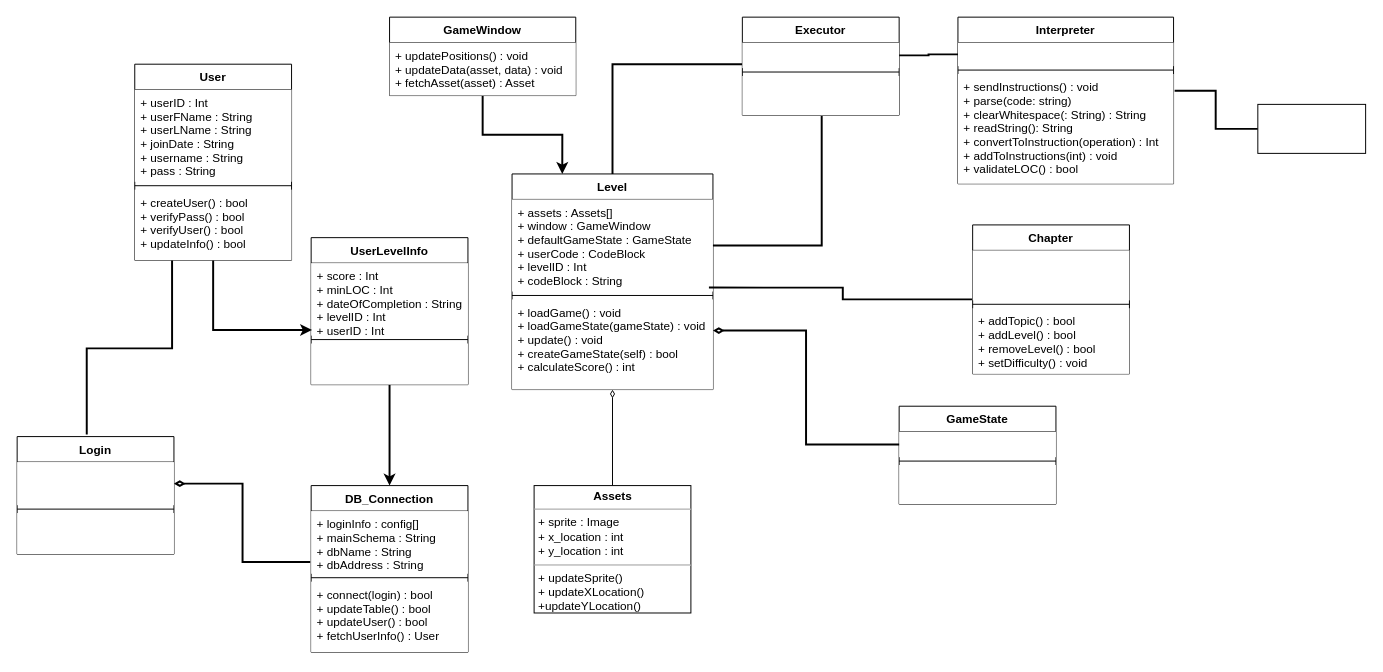
This 1383x672 diagram has some shape labels left out. Each missing label, with the centre of its shape:
"+ assetList : Assets[]" goes at point 977,444.
"+ codeBlock : String" goes at point 820,55.
"+ fetchCodeBlock() : String + execute() : void" goes at point 820,95.
"+ inputUsername : String + inputPass : String" goes at point 95,483.
"+ instructions : int[]" goes at point 1065,54.
"+ levels : Level[] + difficulty : Int + topics : String[]" goes at point 1050,275.
"+ updateGameState() : void +createGameState() : void" goes at point 977,484.
"+ updateScore() : void + sendToDatabase() : void" goes at point 389,363.
"+ validateUsername() + validatePassword()" goes at point 95,533.
"«interface» OperationType" goes at point 1311,128.
